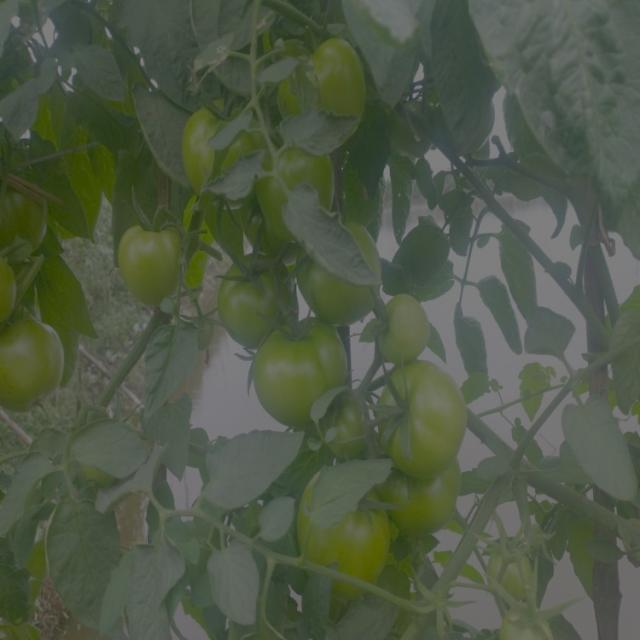tomato: (382, 361, 477, 482), (241, 308, 337, 426), (298, 459, 376, 588), (278, 35, 370, 130), (181, 98, 259, 203), (115, 211, 189, 307), (305, 223, 380, 317), (265, 143, 335, 243), (220, 252, 292, 335), (3, 317, 64, 413), (388, 467, 465, 533), (482, 537, 544, 608), (373, 298, 435, 361), (317, 392, 373, 459), (1, 182, 45, 257), (500, 601, 551, 640), (1, 257, 22, 313)
